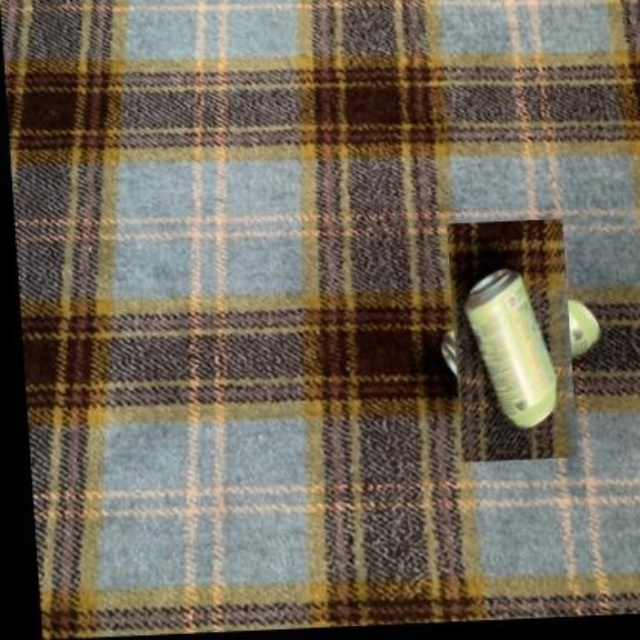trash: (466, 269, 555, 426)
